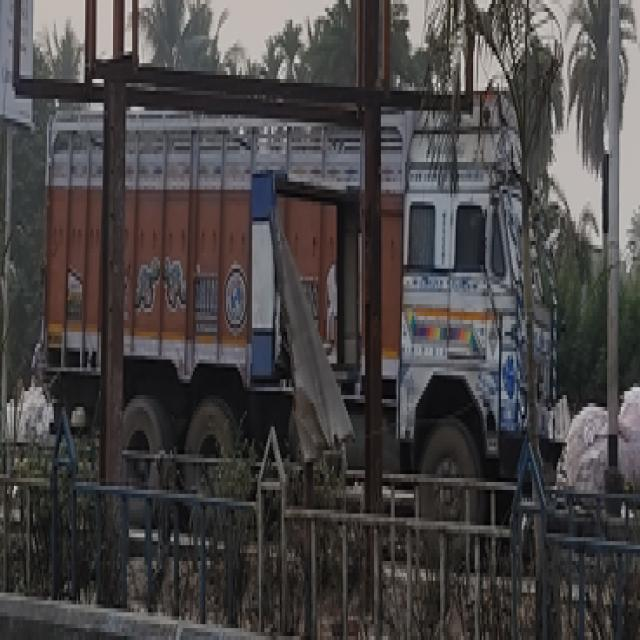truck: (38, 75, 562, 553)
